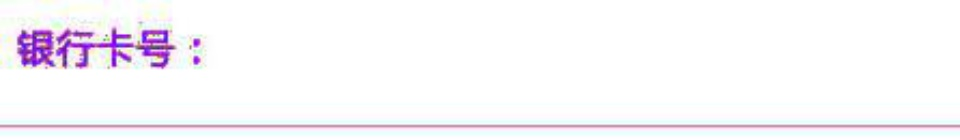EditText: (1, 1, 959, 139)
